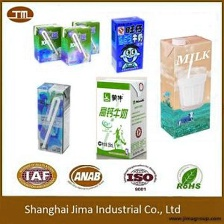carton: (155, 32, 214, 140), (92, 73, 149, 160), (33, 79, 72, 154), (107, 12, 147, 74), (61, 24, 93, 67), (70, 16, 101, 58), (30, 22, 62, 62)
